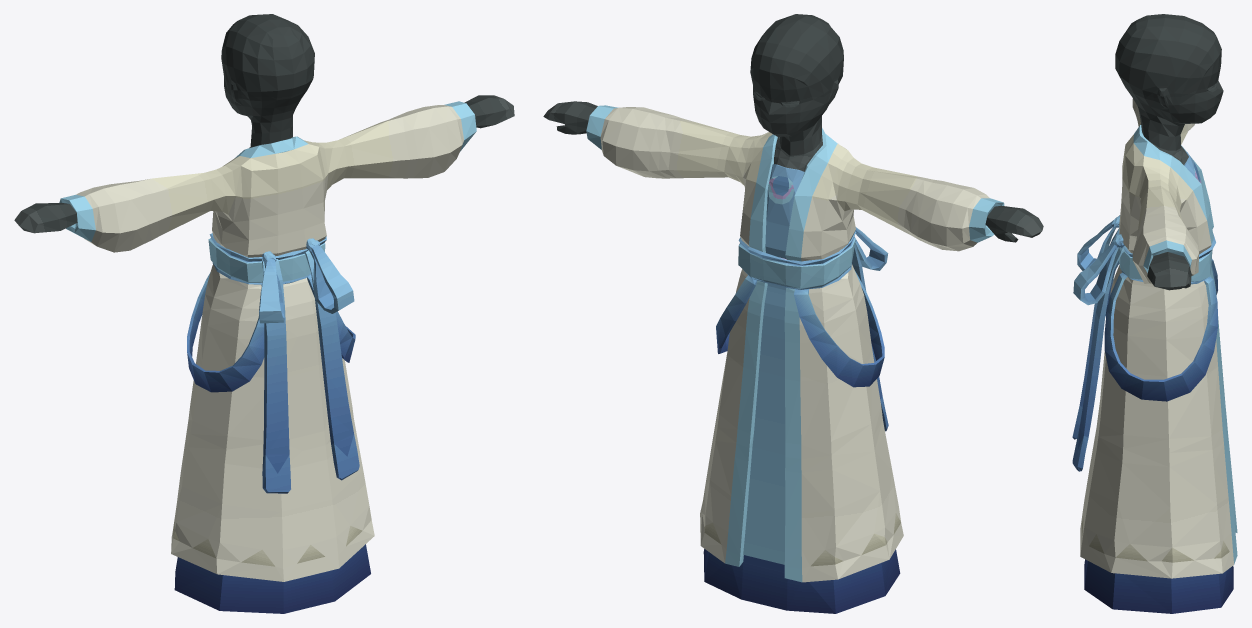
The model's file is CharSkyKid_Body_MoonlightDress.glb.
3 renders of one model, left to right at view 1: azimuth 30°, elevation 25°; view 2: azimuth 150°, elevation 25°; view 3: azimuth 270°, elevation 25°, orthographic.
Parts seen in each view (by area): view 1: CharSkyKid_Body_MoonlightDress; view 2: CharSkyKid_Body_MoonlightDress; view 3: CharSkyKid_Body_MoonlightDress.
Part boxes in pixels (x1=…): CharSkyKid_Body_MoonlightDress: x1=14, y1=14, x2=514, y2=613; CharSkyKid_Body_MoonlightDress: x1=543, y1=14, x2=1043, y2=613; CharSkyKid_Body_MoonlightDress: x1=1072, y1=14, x2=1237, y2=613.
Bounding box in the file's own units: 13.83 × 14.97 × 3.99.
Materials: 1 (1 with a texture image).
